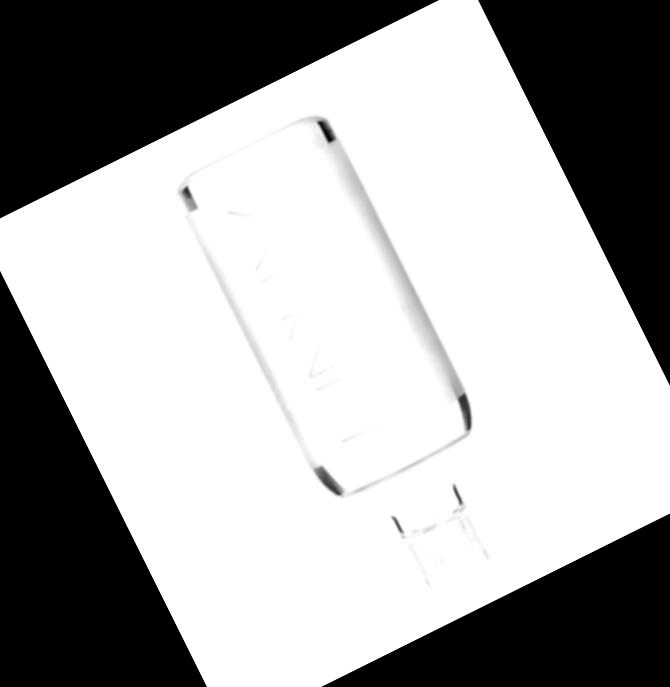cosmetic: (168, 110, 538, 619)
